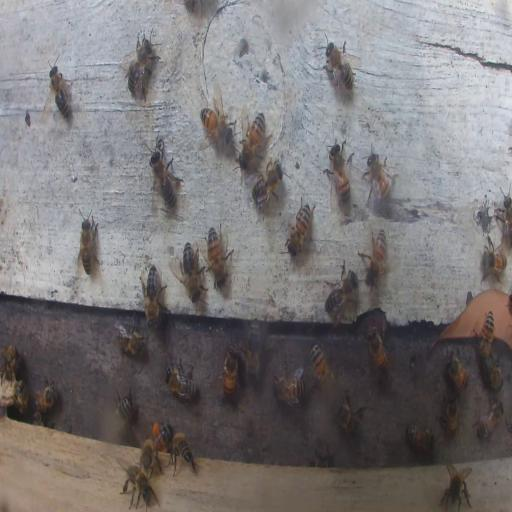nonpollenbee: (125, 30, 161, 100), (150, 140, 185, 209), (204, 223, 234, 288), (324, 262, 358, 317), (322, 39, 356, 94), (364, 149, 397, 203), (358, 228, 387, 289), (326, 138, 352, 205), (250, 162, 284, 212), (440, 460, 472, 512), (140, 264, 166, 327), (238, 112, 267, 167), (176, 241, 202, 300), (288, 200, 314, 256), (48, 62, 72, 120), (272, 362, 305, 404), (164, 359, 196, 402), (115, 315, 147, 358), (335, 395, 365, 440), (168, 431, 197, 477), (124, 467, 156, 507), (473, 400, 504, 441), (200, 104, 231, 144), (494, 181, 512, 248), (79, 214, 97, 277), (310, 341, 334, 388), (366, 324, 388, 375), (444, 352, 470, 392), (220, 345, 239, 399), (404, 422, 436, 454), (438, 392, 458, 438), (246, 318, 260, 381), (33, 378, 56, 416), (481, 246, 507, 277), (480, 308, 494, 360), (0, 344, 17, 384), (116, 387, 134, 421), (141, 437, 156, 472), (12, 381, 28, 413), (488, 358, 502, 392), (314, 447, 330, 467)
pollenbee: (150, 419, 171, 458)
